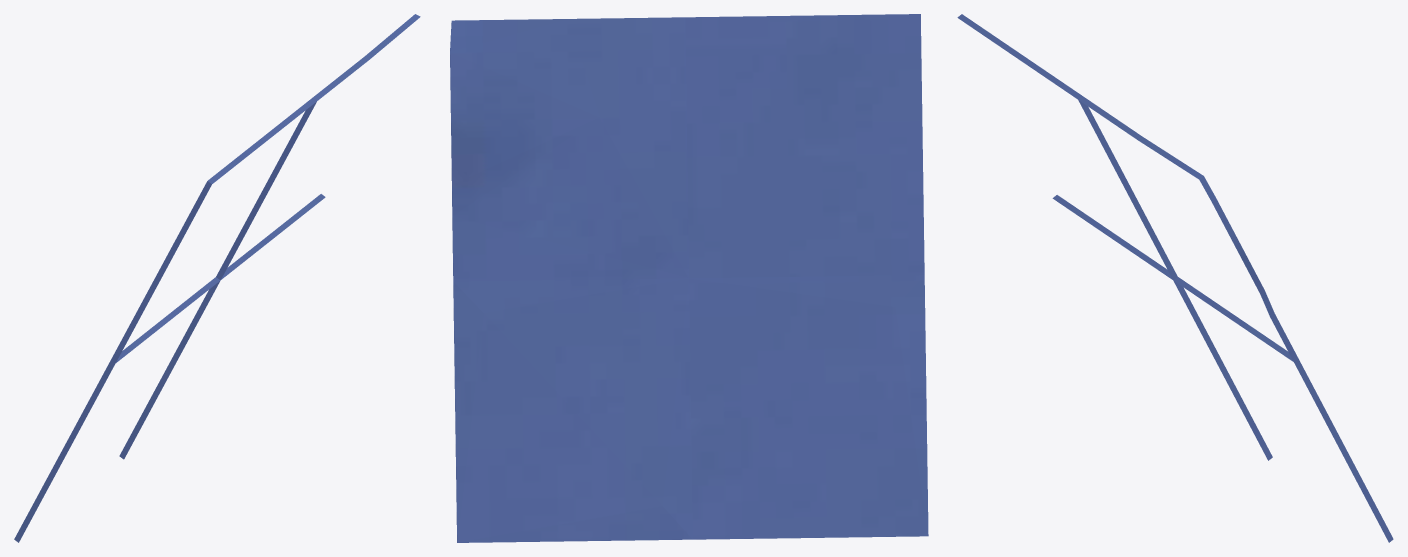
The picture shows the model from 3 angles, left to right: view 1: azimuth 30°, elevation 25°; view 2: azimuth 150°, elevation 25°; view 3: azimuth 270°, elevation 25°; orthographic projection. The views are drawn at different scales.
Size of the model in its own units: 19686 by 17721 by 16903.
Materials: 1 (1 with a texture image).
